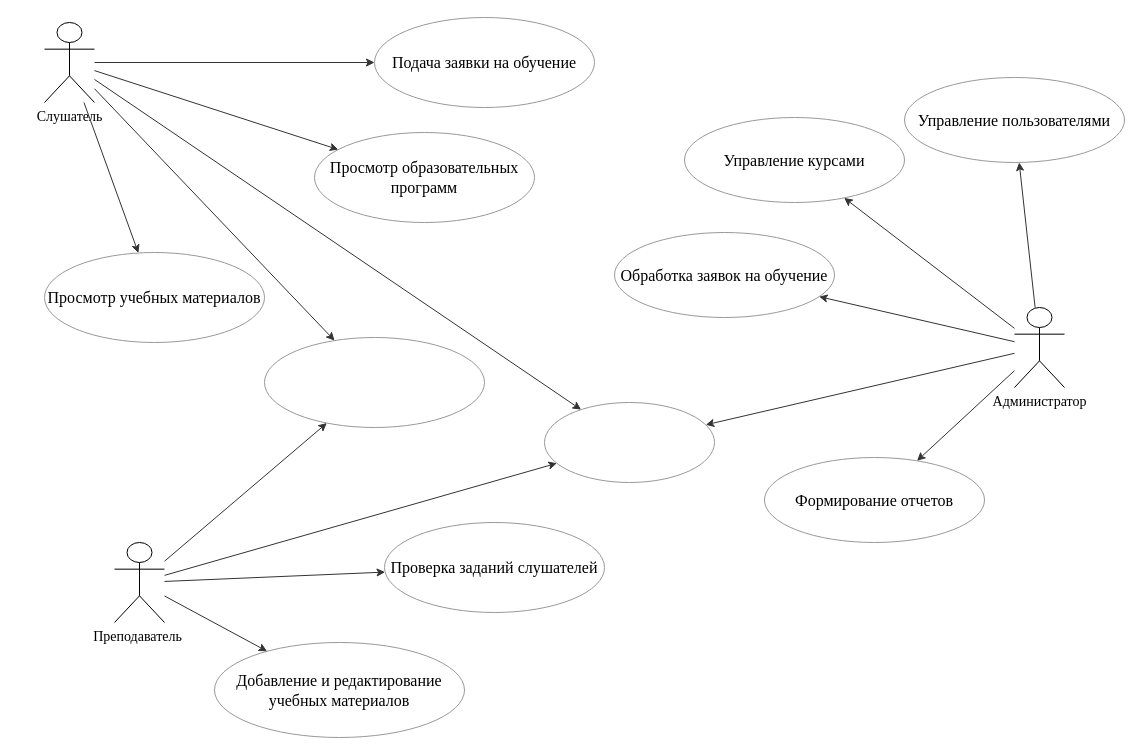
Image size: 1142x755. Some labels were removed from this diagram. Each missing label, with the centre of its shape:
Авторизация: the point at 629,442
Просмотр прогресса обучения: the point at 374,382
